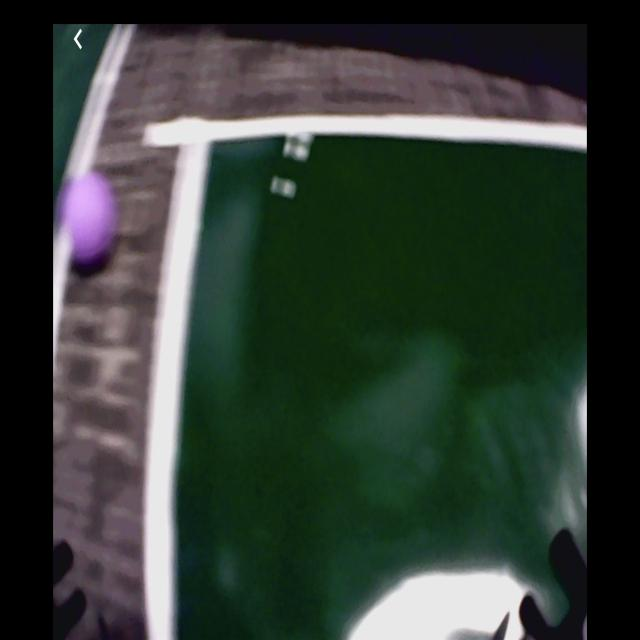ball: (60, 174, 118, 263)
